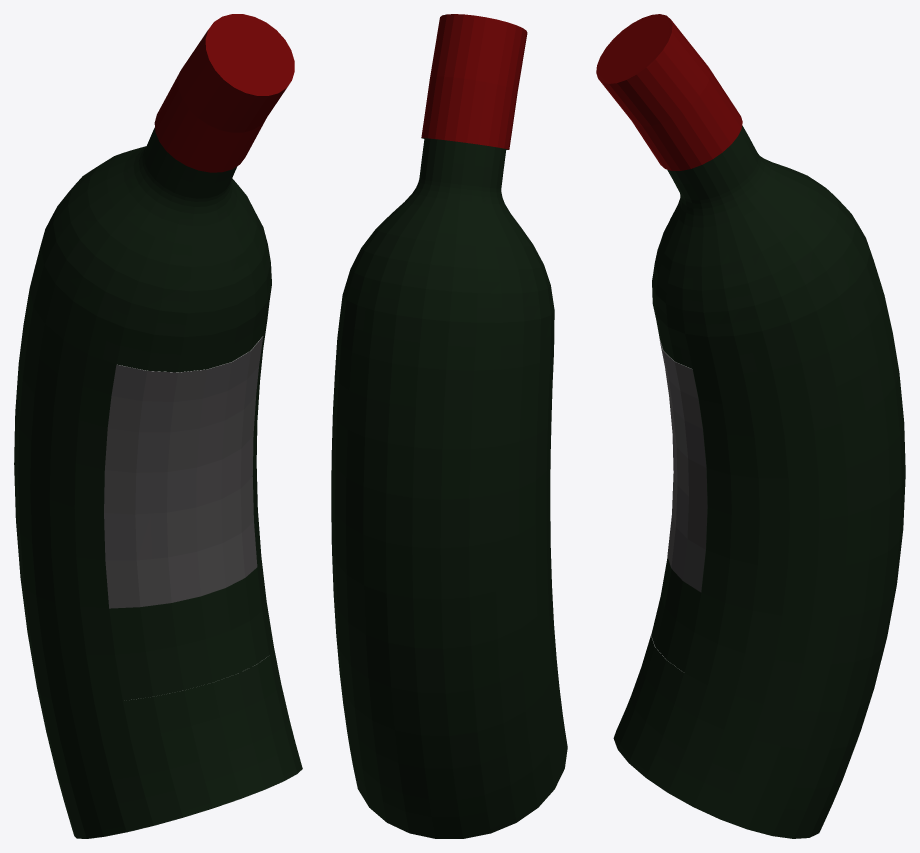
File: bend_high_1.obj
The picture shows the model from 3 angles, left to right: view 1: azimuth 30°, elevation 25°; view 2: azimuth 150°, elevation 25°; view 3: azimuth 270°, elevation 25°; orthographic projection. The views are drawn at different scales.
Parts seen in each view (by area): view 1: model; view 2: model; view 3: model.
Boxes of the visible parts, x1,y1,x2,y2 form: model: (14,14,302,838); model: (331,14,567,838); model: (596,14,905,838).
Bounding box in the file's own units: 0.0715 × 0.2587 × 0.0896.
1 material, 1 textured.
